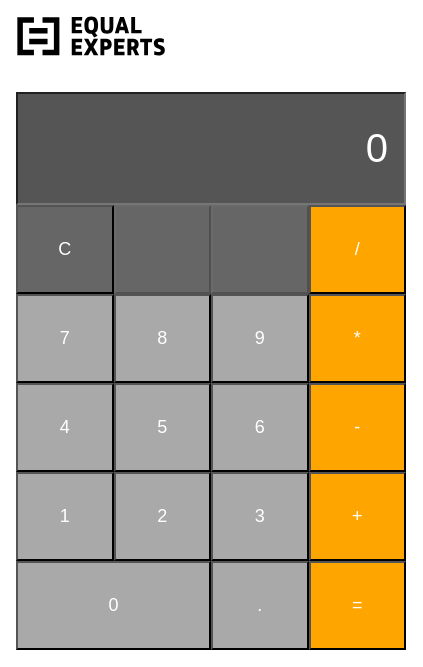
Scenario: render, input & clear related tests: › it displays a concatenated number
Step 1. Click the button "6" → click(260, 428), box x1=211 y1=383 x2=308 y2=472
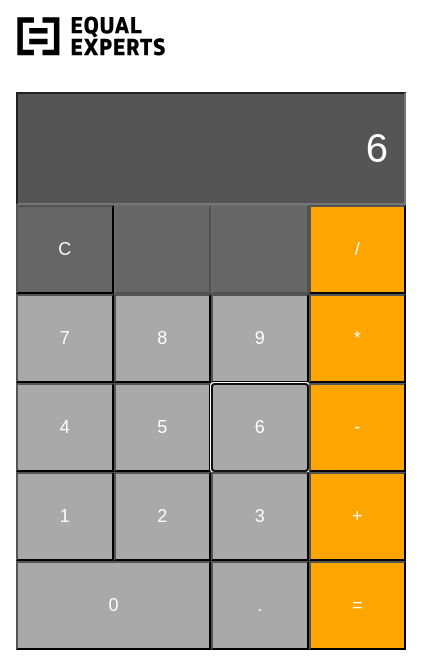
Step 2. Click the button "3" → click(260, 516), box x1=211 y1=472 x2=308 y2=561
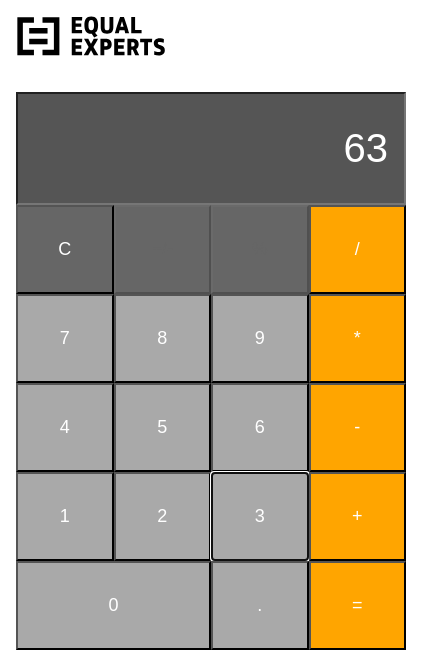
Expected: the field holds "63", x1=16 y1=92 x2=406 y2=205
